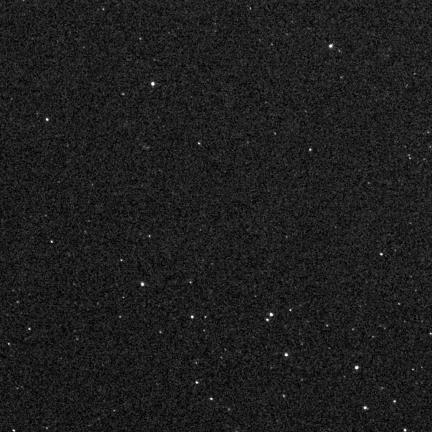blob: (329, 44, 334, 49), (355, 366, 359, 369), (191, 316, 195, 319), (270, 313, 273, 316), (285, 353, 288, 356), (152, 82, 154, 86)
